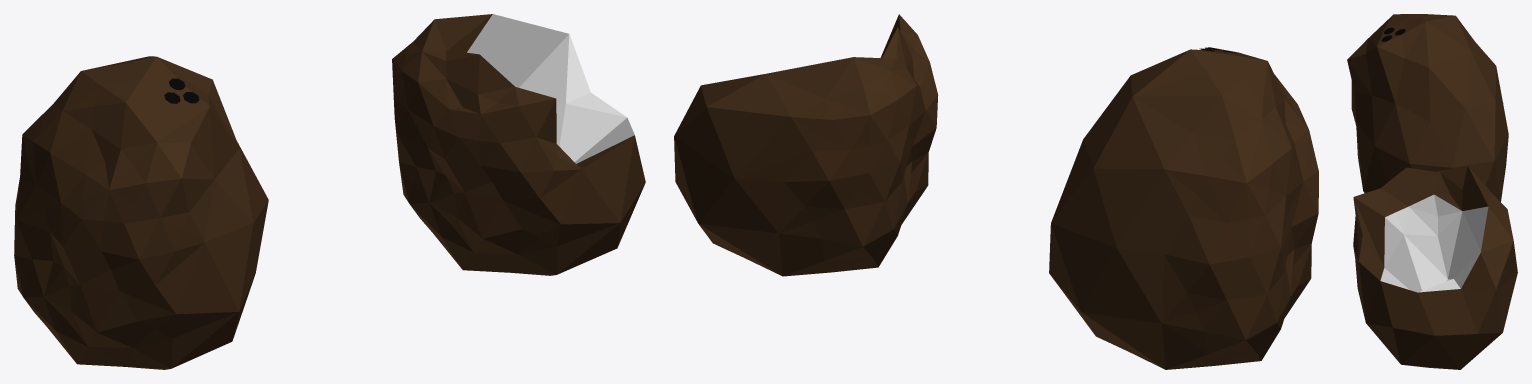
The model's file is Kokosnuss.fbx.
The picture shows the model from 3 angles, left to right: view 1: azimuth 30°, elevation 25°; view 2: azimuth 150°, elevation 25°; view 3: azimuth 270°, elevation 25°; orthographic projection. The views are drawn at different scales.
Visible parts, largest first — view 1: Kokosnuss, Kokosnuss.001; view 2: Kokosnuss, Kokosnuss.001; view 3: Kokosnuss.001, Kokosnuss.
Part boxes in pixels (left/top/right/bottom): Kokosnuss: left=14, top=56, right=268, bottom=369; Kokosnuss.001: left=392, top=14, right=645, bottom=275; Kokosnuss: left=1049, top=47, right=1318, bottom=369; Kokosnuss.001: left=674, top=14, right=938, bottom=276; Kokosnuss.001: left=1353, top=166, right=1517, bottom=369; Kokosnuss: left=1347, top=14, right=1508, bottom=201.
Bounding box in the file's own units: 67.77 × 34.24 × 24.61.
